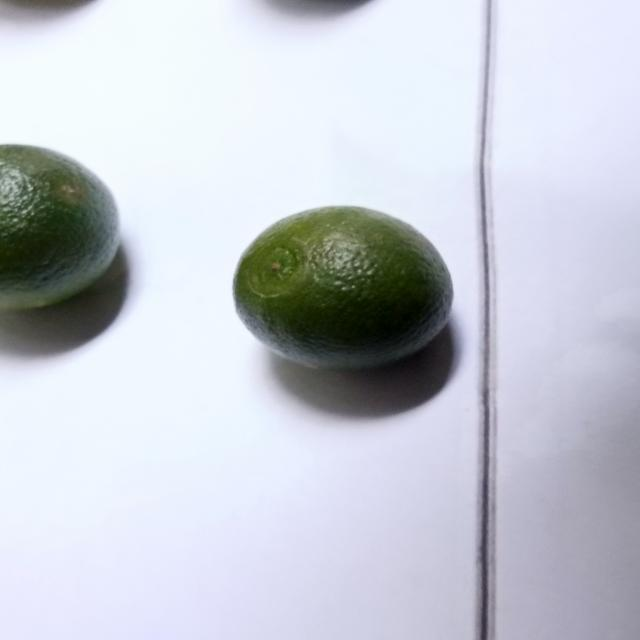heathy: (230, 205, 458, 377)
